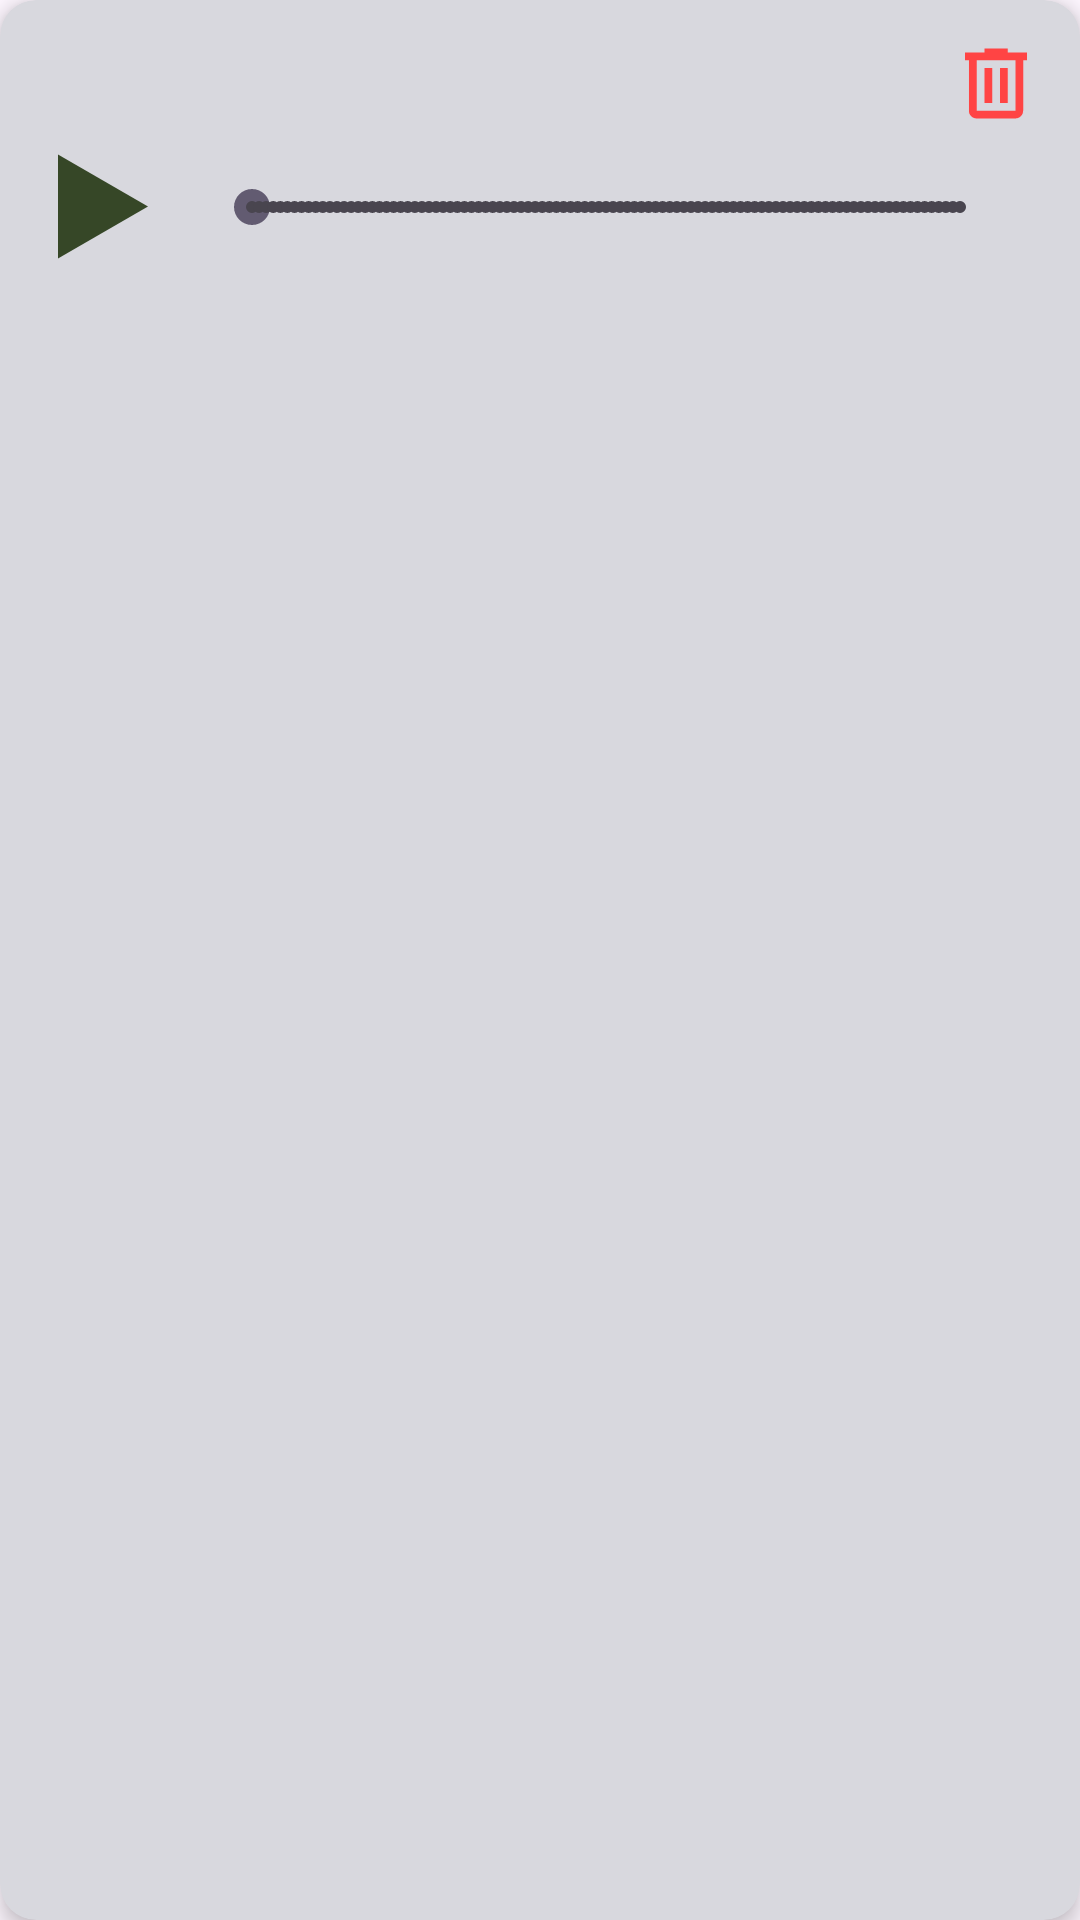

Screen size 1080x1920. Icon name, then its box in pixels as detection(x1, y1, x2, y2):
Delete history item: detection(965, 48, 1027, 119)
Play or pause recording: detection(58, 154, 148, 259)
